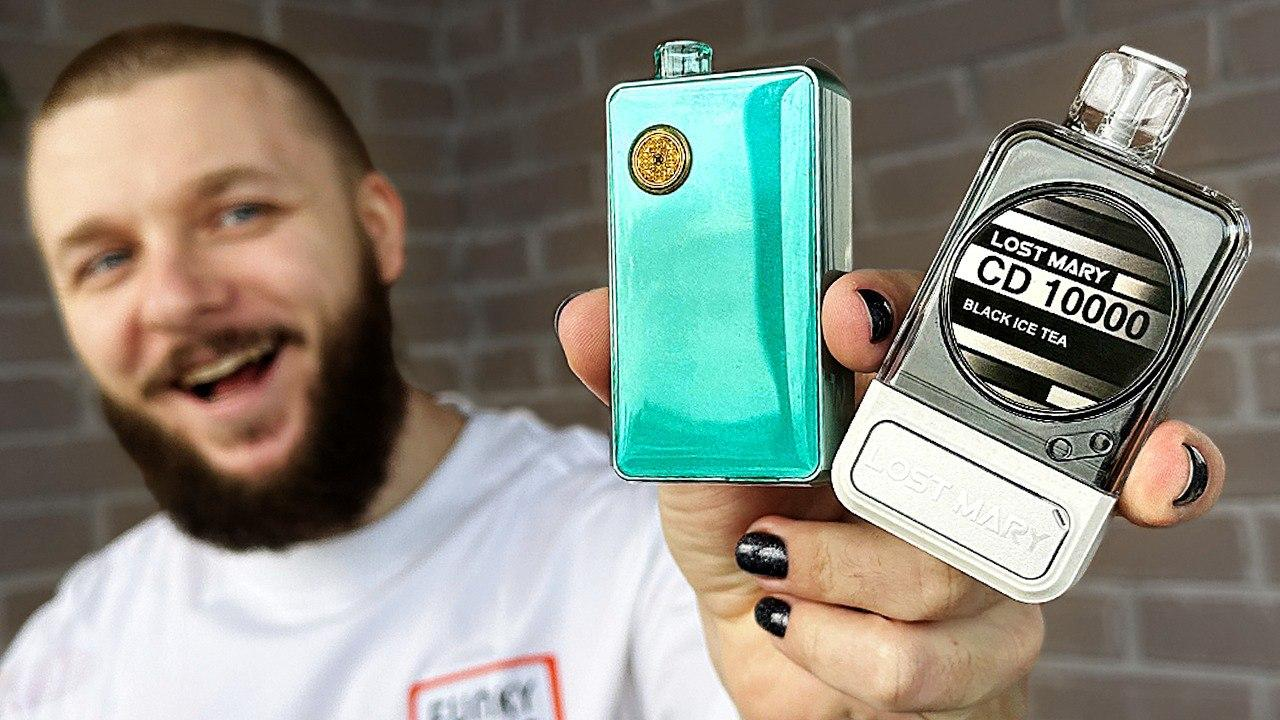Vape: (832, 47, 1250, 602), (607, 40, 852, 483)
